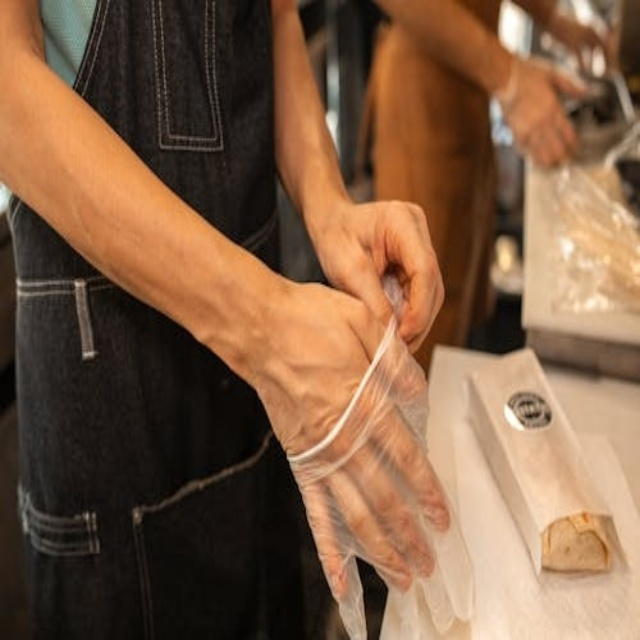Guantes: (247, 317, 484, 628), (488, 40, 588, 171)
Sin_guantes: (314, 188, 444, 359)
